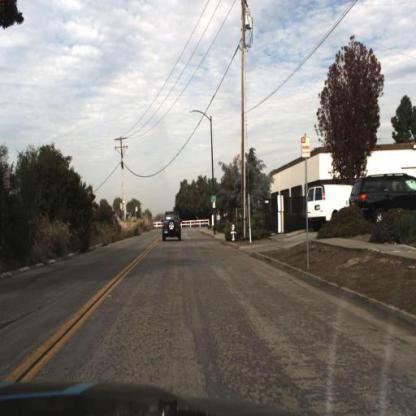car: (348, 172, 416, 232), (303, 181, 348, 233), (160, 206, 184, 244)
